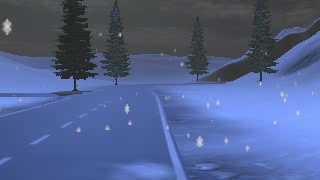Lane: (0, 84, 183, 179)
